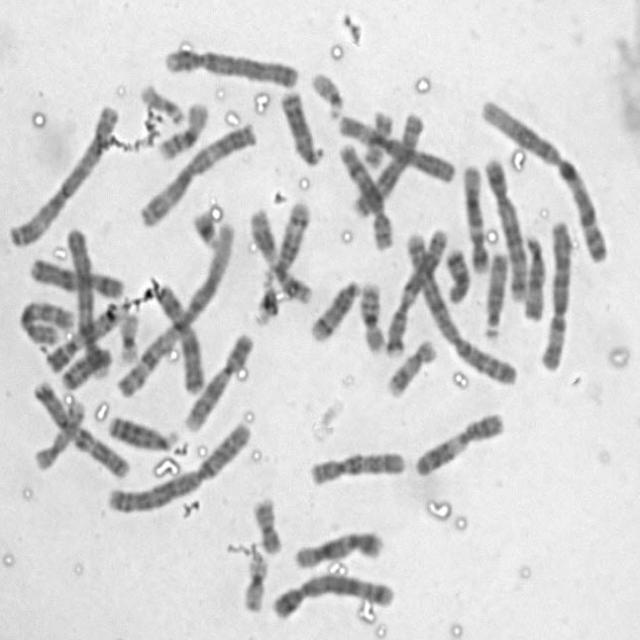A1: (476, 93, 613, 266), (113, 217, 239, 400)
A2: (398, 225, 521, 386), (102, 416, 254, 515)
A3: (4, 96, 123, 250), (133, 116, 260, 228)
B4: (61, 221, 113, 381), (161, 40, 302, 90)
B5: (481, 149, 531, 303), (267, 566, 398, 622)
C10: (305, 444, 408, 487), (14, 292, 77, 346)
C11: (246, 202, 316, 305), (410, 406, 508, 478)
C12: (289, 524, 386, 570), (459, 158, 492, 276)
C6: (331, 108, 457, 186), (535, 213, 576, 373)
C7: (26, 372, 132, 481), (380, 223, 450, 359)
C8: (348, 105, 427, 218), (334, 136, 395, 254)
C9: (181, 328, 257, 432), (41, 299, 122, 373)
D13: (276, 84, 327, 167), (103, 408, 182, 453)
D14: (259, 197, 313, 295), (305, 273, 364, 343)
D15: (478, 246, 510, 342), (518, 228, 548, 322)
E16: (154, 94, 212, 162), (356, 276, 387, 354)
E17: (29, 393, 87, 472), (382, 333, 439, 399)
E18: (57, 341, 114, 392), (441, 242, 472, 305)
F19: (238, 547, 270, 614), (114, 305, 143, 367)
F20: (359, 105, 396, 171), (248, 492, 284, 556)
G21: (188, 204, 222, 250), (252, 280, 281, 330)
G22: (135, 77, 186, 125), (306, 66, 347, 120)
X: (151, 278, 207, 396), (26, 252, 128, 300)
